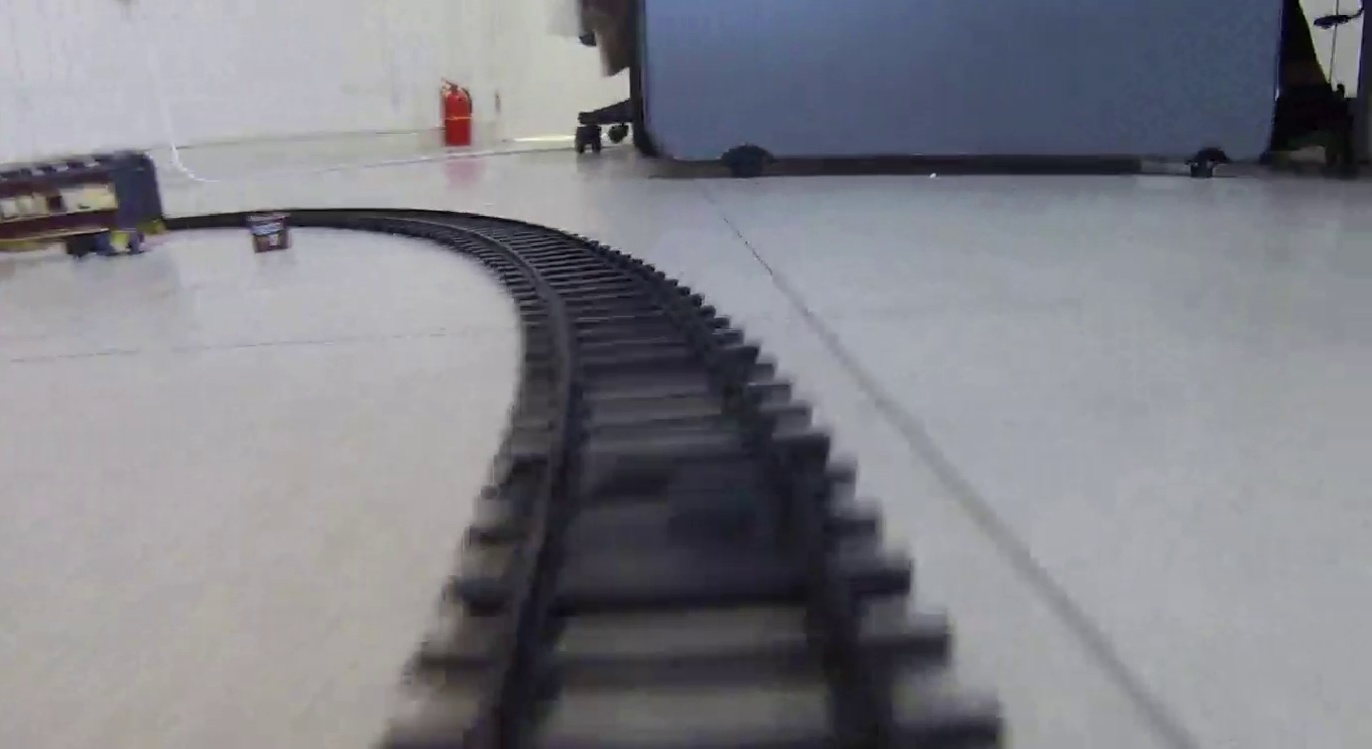box: (248, 213, 293, 252)
